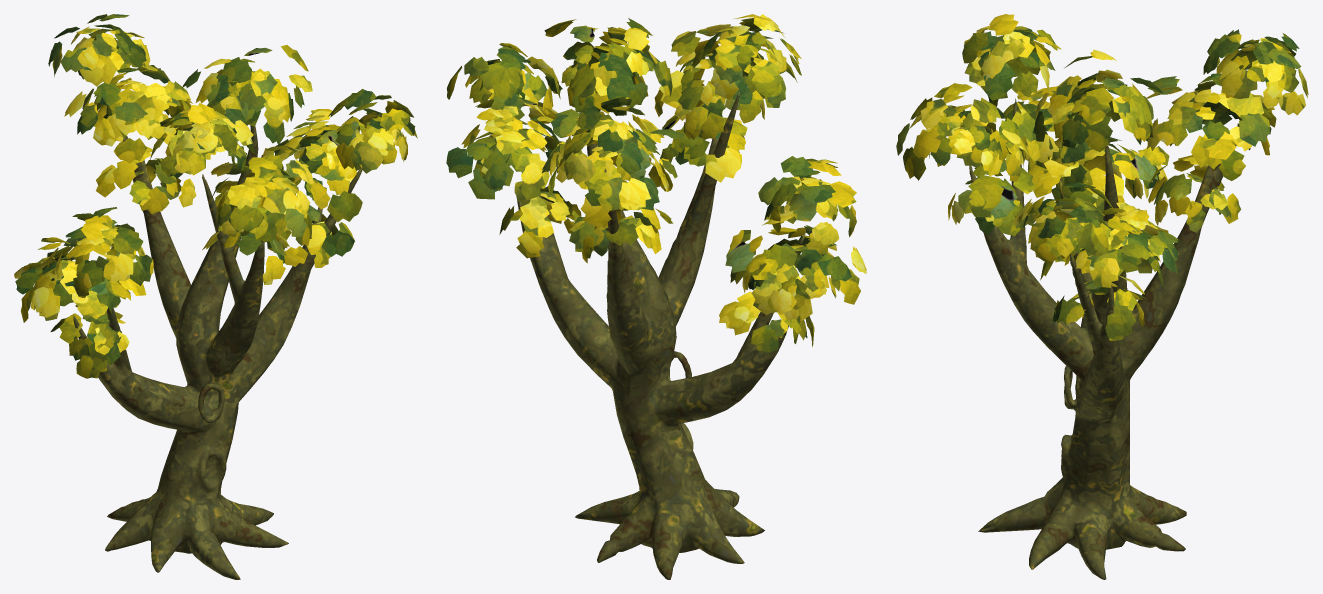
Rendered from golden_leaning_lod1.glb.
The picture shows the model from 3 angles, left to right: view 1: azimuth 30°, elevation 25°; view 2: azimuth 150°, elevation 25°; view 3: azimuth 270°, elevation 25°; orthographic projection. The views are drawn at different scales.
Visible parts, largest first — view 1: Leaves_LOD1.002, Trunk_LOD1.002; view 2: Leaves_LOD1.002, Trunk_LOD1.002; view 3: Leaves_LOD1.002, Trunk_LOD1.002.
Boxes of the visible parts, box(x1,y1,x2,y2) form: Leaves_LOD1.002: box(14, 14, 417, 378); Trunk_LOD1.002: box(73, 125, 362, 579); Leaves_LOD1.002: box(446, 14, 866, 352); Trunk_LOD1.002: box(516, 92, 805, 579); Leaves_LOD1.002: box(896, 14, 1308, 340); Trunk_LOD1.002: box(969, 98, 1242, 579).
Bounding box in the file's own units: 5.15 × 6.04 × 4.47.
Materials: 2 (2 with a texture image).
